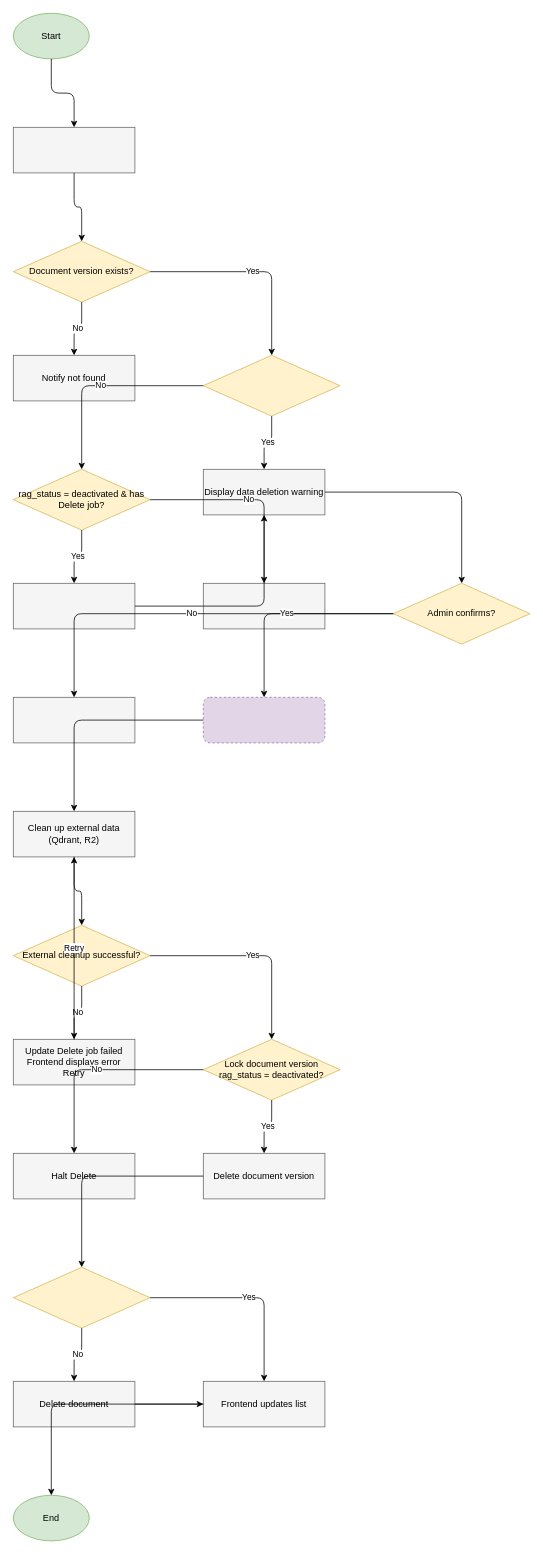
The diagram is 543 pixels wide and 1554 high, and some of its shapes have lost their labels. The box of each missing label's shape, as (x1, y1, x2, y2) in pixels:
Admin selects document version: (13, 127, 135, 173)
Block Delete Require Deindex first: (203, 583, 325, 629)
Cancel operation: (13, 697, 135, 743)
Display “Retry Delete”: (13, 583, 135, 629)
Document has other versions?: (13, 1267, 150, 1328)
PostgreSQL Transaction — Record intent Create Delete job: (203, 697, 325, 743)
rag_status = not_indexed or failed?: (203, 355, 340, 416)
